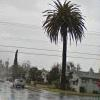Palm tree: (39, 2, 81, 86)
